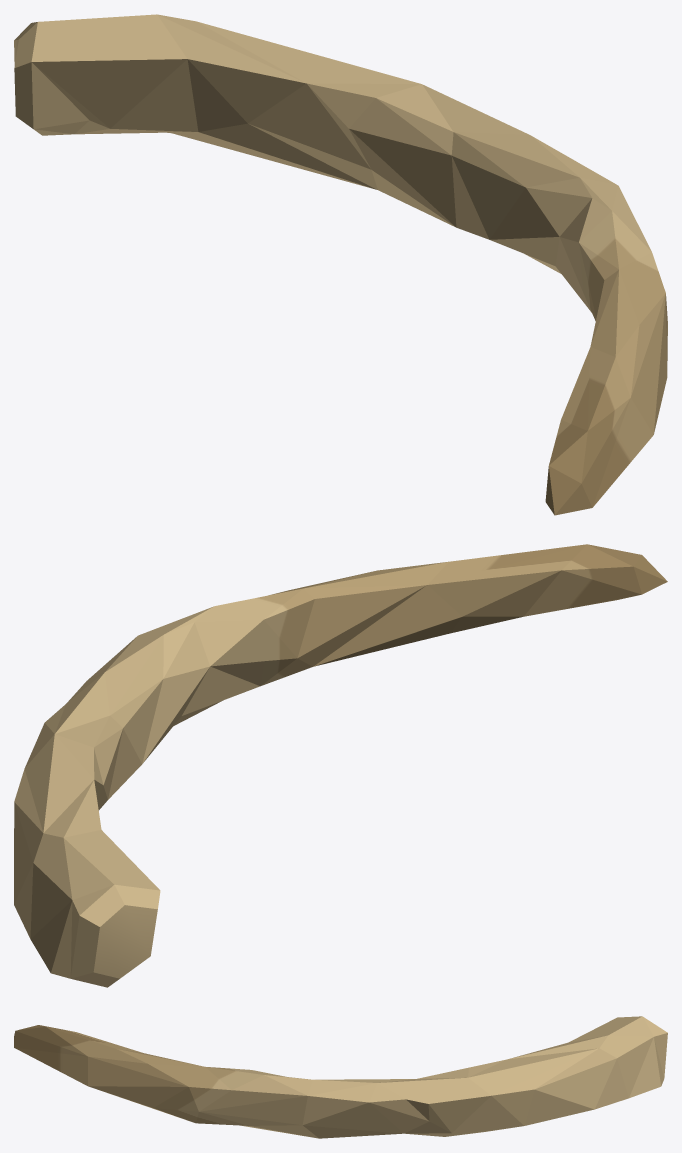
The model's file is SM_Prop_Whale_Skeleton_Rib_01.glb.
3 renders of one model, top to bottom at view 1: azimuth 30°, elevation 25°; view 2: azimuth 150°, elevation 25°; view 3: azimuth 270°, elevation 25°, orthographic. The views are drawn at different scales.
Visible parts, largest first — view 1: SM_Prop_Whale_Skeleton_Rib_01; view 2: SM_Prop_Whale_Skeleton_Rib_01; view 3: SM_Prop_Whale_Skeleton_Rib_01.
Boxes of the visible parts, left/top/right/bottom form: SM_Prop_Whale_Skeleton_Rib_01: left=14, top=14, right=667, bottom=515; SM_Prop_Whale_Skeleton_Rib_01: left=14, top=544, right=667, bottom=987; SM_Prop_Whale_Skeleton_Rib_01: left=14, top=1016, right=667, bottom=1138.
Bounding box in the file's own units: 1.56 × 0.5686 × 4.8.
1 material, 1 textured.
